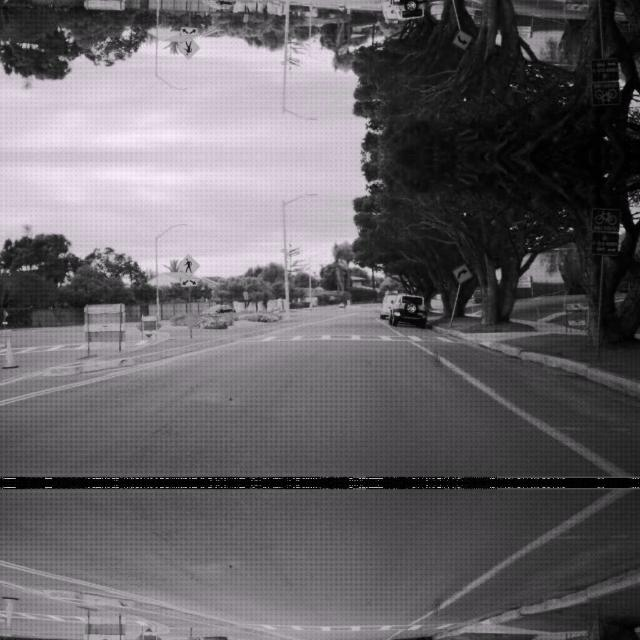pedestrianCrossing: (177, 252, 200, 276), (177, 36, 200, 60)
